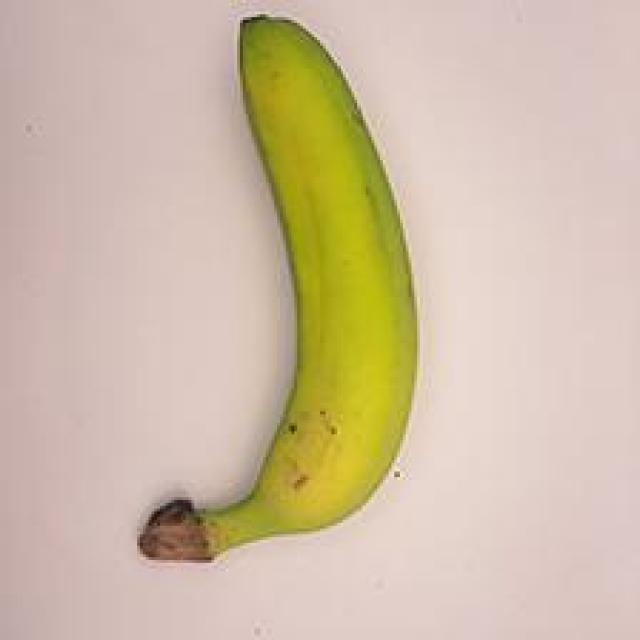Unripe: (117, 0, 437, 583)
